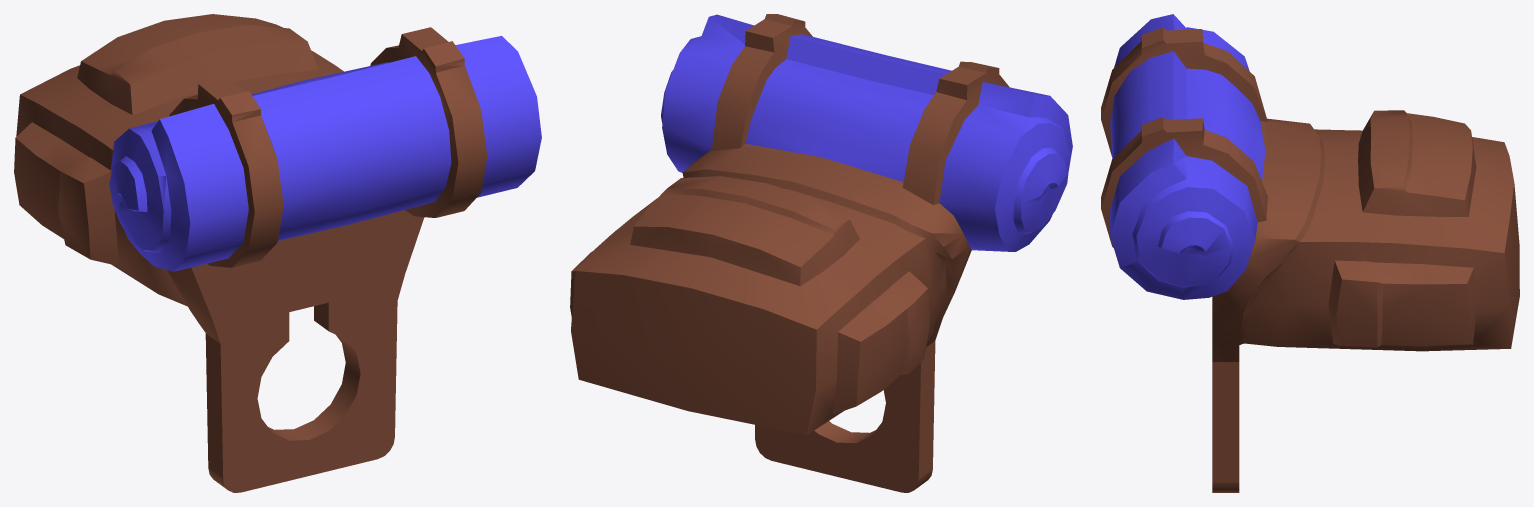
Rendered from Mochila.fbx.
3 renders of one model, left to right at view 1: azimuth 30°, elevation 25°; view 2: azimuth 150°, elevation 25°; view 3: azimuth 270°, elevation 25°, orthographic. The views are drawn at different scales.
Parts seen in each view (by area): view 1: SOLID-WHITE_113-material.524, SOLID-BLUE_008-material.001; view 2: SOLID-WHITE_113-material.524, SOLID-BLUE_008-material.001; view 3: SOLID-WHITE_113-material.524, SOLID-BLUE_008-material.001.
Boxes of the visible parts, x1,y1,x2,y2 form: SOLID-WHITE_113-material.524: (14, 14, 487, 492); SOLID-BLUE_008-material.001: (109, 36, 541, 271); SOLID-WHITE_113-material.524: (570, 14, 1009, 492); SOLID-BLUE_008-material.001: (661, 14, 1072, 251); SOLID-WHITE_113-material.524: (1101, 27, 1519, 492); SOLID-BLUE_008-material.001: (1110, 14, 1265, 299).
Bounding box in the file's own units: 246 × 251 × 248.
